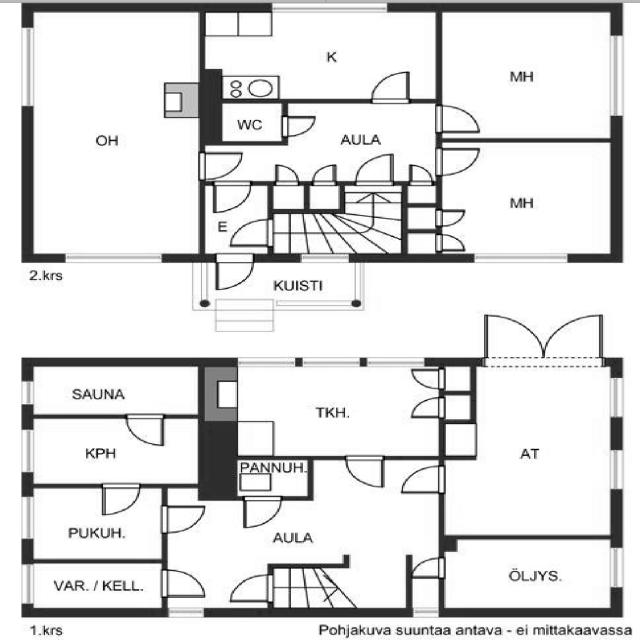door: (434, 104, 482, 178), (480, 312, 548, 364), (542, 312, 606, 360), (222, 192, 270, 248), (236, 492, 286, 532), (96, 479, 144, 520), (124, 410, 172, 450), (153, 503, 211, 536), (366, 67, 414, 105), (157, 568, 210, 600), (212, 254, 256, 292), (342, 453, 387, 490), (433, 103, 485, 135), (352, 151, 398, 186), (433, 146, 483, 178), (197, 150, 247, 181), (398, 464, 448, 494), (210, 180, 252, 213), (274, 112, 323, 140), (229, 573, 274, 603), (230, 217, 274, 247), (406, 394, 446, 421), (409, 555, 450, 581), (407, 366, 445, 391), (434, 208, 469, 228), (271, 163, 301, 186), (310, 162, 340, 185), (405, 163, 435, 185), (434, 232, 467, 252)
window: (601, 28, 632, 121), (15, 23, 40, 108), (263, 1, 394, 17), (296, 353, 426, 369), (55, 248, 172, 264), (238, 354, 364, 368), (468, 250, 574, 263), (361, 354, 431, 372), (229, 354, 301, 369), (18, 493, 39, 543), (17, 560, 38, 609), (19, 424, 38, 476), (293, 250, 357, 265), (607, 543, 627, 591), (607, 444, 626, 492), (608, 371, 625, 418), (17, 378, 39, 408), (163, 606, 212, 618), (408, 608, 442, 620)
zone: (25, 9, 204, 260), (443, 361, 619, 539), (271, 463, 441, 613), (437, 9, 616, 139), (213, 361, 449, 459), (202, 6, 436, 101), (437, 139, 618, 258), (438, 538, 620, 614), (26, 415, 197, 486), (23, 486, 170, 562), (28, 363, 203, 417), (22, 560, 173, 614), (232, 457, 308, 496), (216, 103, 284, 143), (268, 183, 308, 212)
